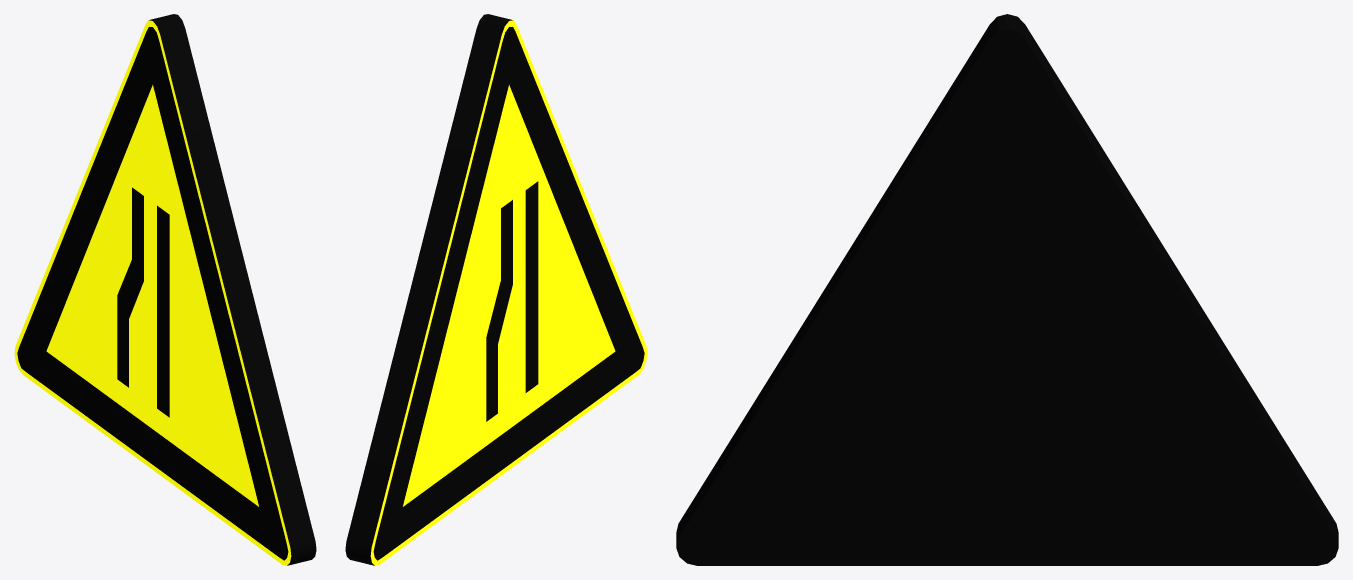
Rendered from Narrow_Road_Left.glb.
3 renders of one model, left to right at view 1: azimuth 30°, elevation 25°; view 2: azimuth 150°, elevation 25°; view 3: azimuth 270°, elevation 25°, orthographic. The views are drawn at different scales.
Parts seen in each view (by area): view 1: Narrow_Road_Left; view 2: Narrow_Road_Left; view 3: Narrow_Road_Left.
Boxes of the visible parts, x1,y1,x2,y2 form: Narrow_Road_Left: (14, 14, 316, 565); Narrow_Road_Left: (345, 14, 647, 565); Narrow_Road_Left: (676, 14, 1338, 565).
Bounding box in the file's own units: 0.075 × 1.02 × 1.14.
